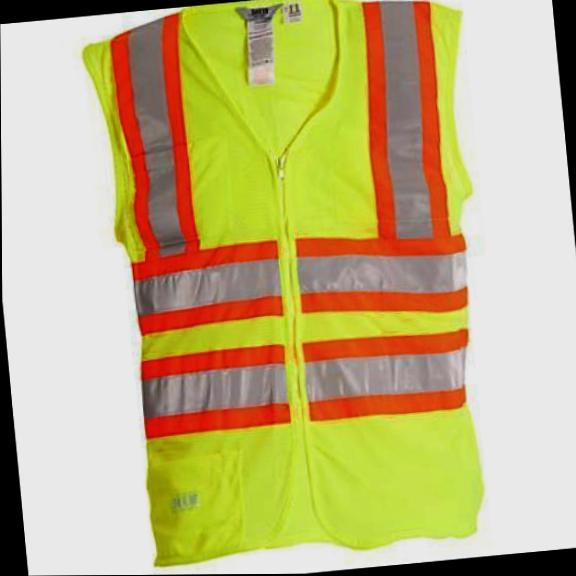safety_vest: (78, 0, 511, 570)
